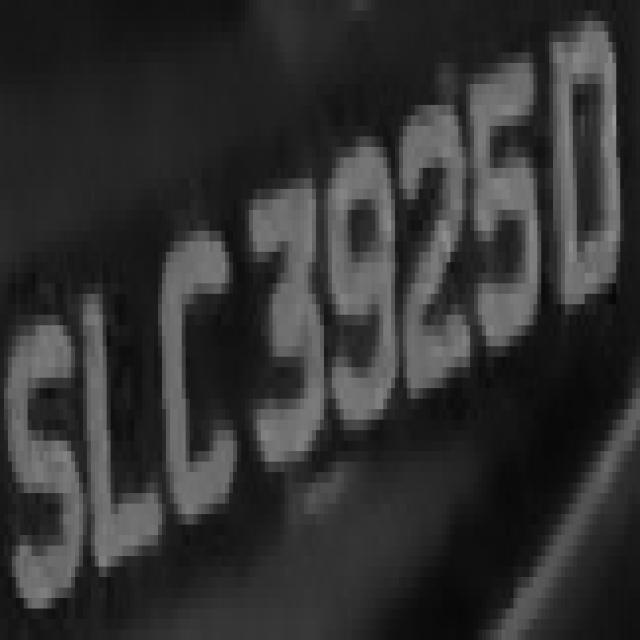2: (391, 84, 474, 430)
3: (241, 178, 324, 524)
5: (470, 52, 549, 346)
9: (312, 157, 395, 462)
C: (162, 200, 237, 546)
D: (533, 10, 632, 315)
L: (87, 252, 154, 577)
S: (0, 5, 1, 11)
